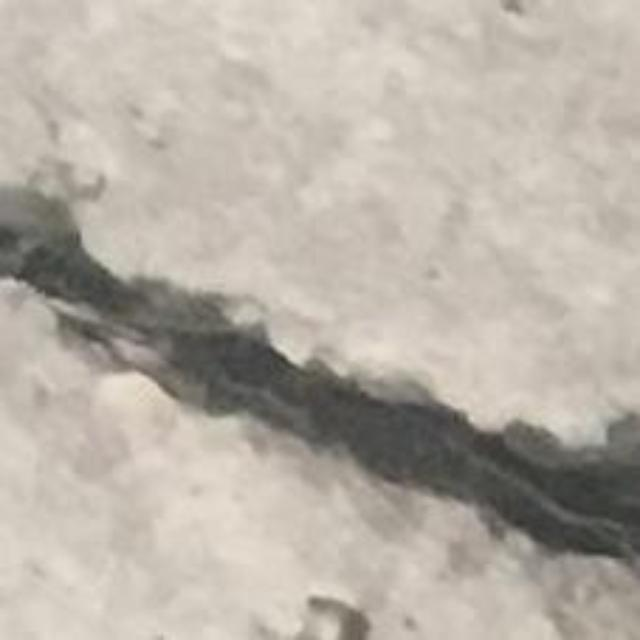crack: (0, 187, 639, 563)
